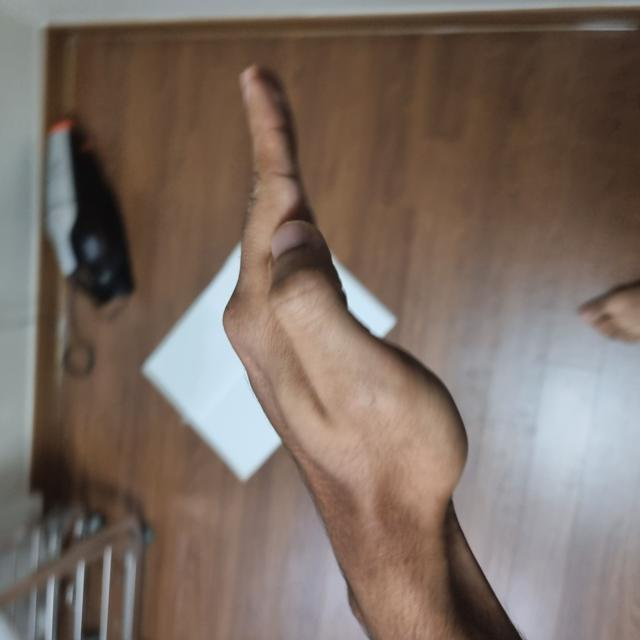Paper: (69, 232, 560, 466)
